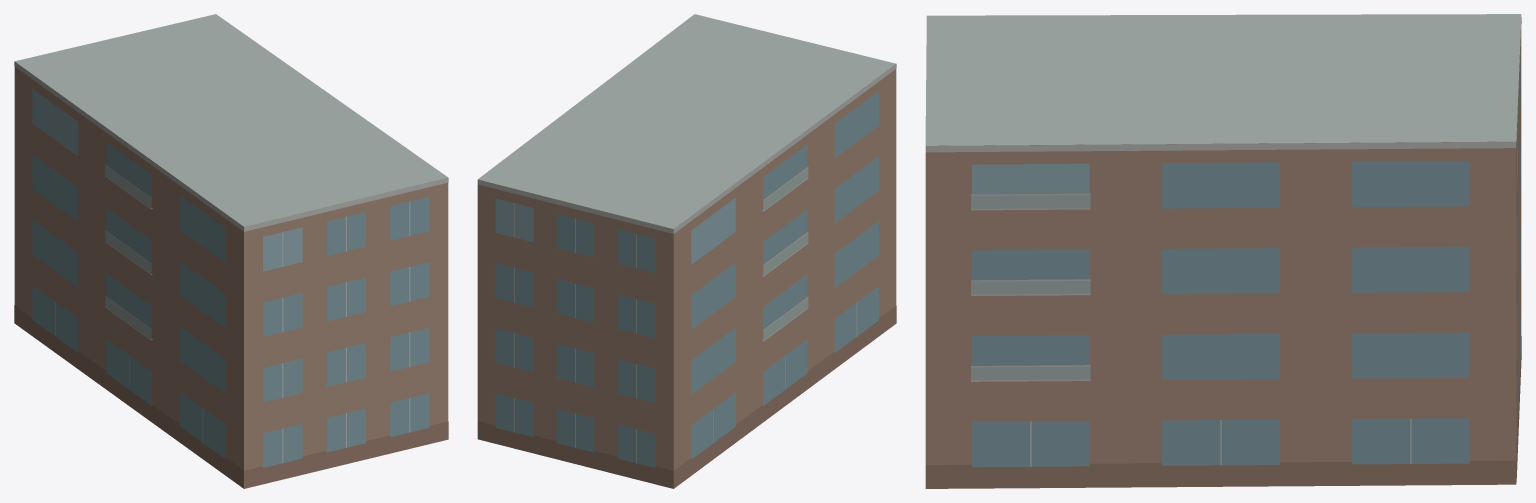
File: survey-upis-33011299.glb
3 views of the same model, side by side, from view 1: azimuth 30°, elevation 25°; view 2: azimuth 150°, elevation 25°; view 3: azimuth 270°, elevation 25° (orthographic). The views are drawn at different scales.
Parts seen in each view (by area): view 1: survey-upis-33011299.tmp; view 2: survey-upis-33011299.tmp; view 3: survey-upis-33011299.tmp.
Boxes of the visible parts, bbox=[...] form: survey-upis-33011299.tmp: bbox=[14, 14, 448, 488]; survey-upis-33011299.tmp: bbox=[477, 14, 896, 488]; survey-upis-33011299.tmp: bbox=[925, 14, 1521, 488].
Bounding box in the file's own units: 10.65 × 12.9 × 20.32.
